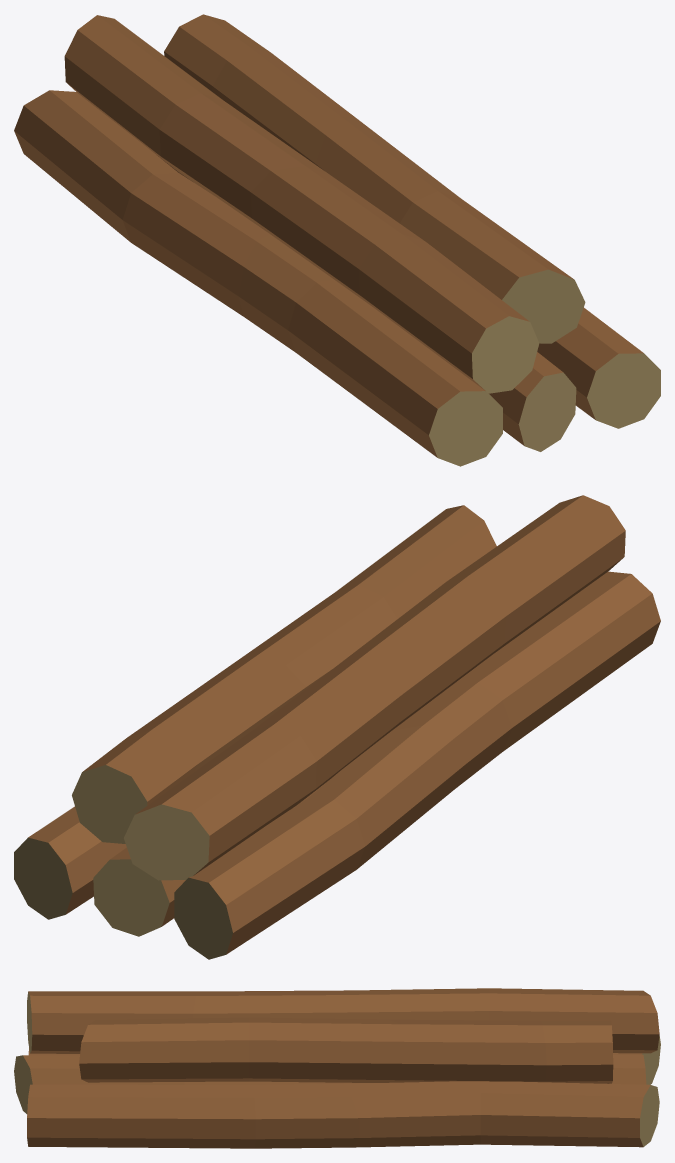
Rendered from logs.fbx.
The picture shows the model from 3 angles, top to bottom: view 1: azimuth 30°, elevation 25°; view 2: azimuth 150°, elevation 25°; view 3: azimuth 270°, elevation 25°; orthographic projection. The views are drawn at different scales.
Visible parts, largest first — view 1: Sawmill.001; view 2: Sawmill.001; view 3: Sawmill.001.
Part boxes in pixels (x1,y1,x2,y2): Sawmill.001: (14,14,660,466); Sawmill.001: (14,495,660,959); Sawmill.001: (14,988,660,1148).
Size of the model in its own units: 66.88 by 37.63 by 206.
